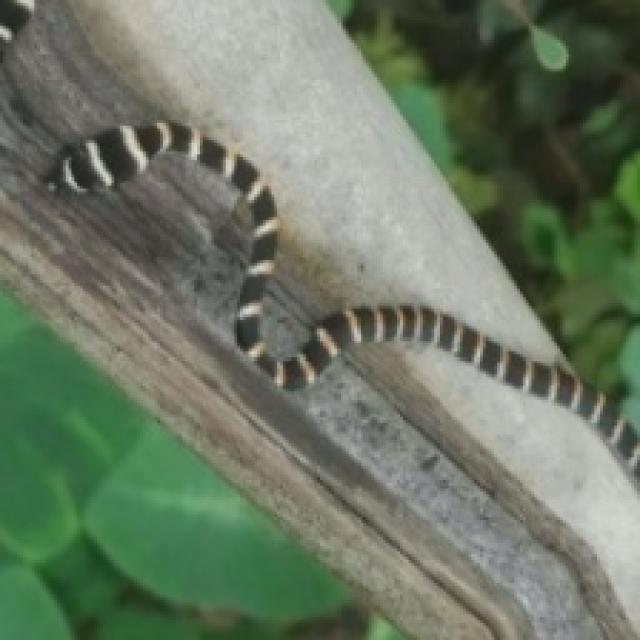paradise tree snake: (0, 0, 637, 637), (46, 120, 637, 531), (231, 291, 351, 391), (134, 169, 186, 243)
